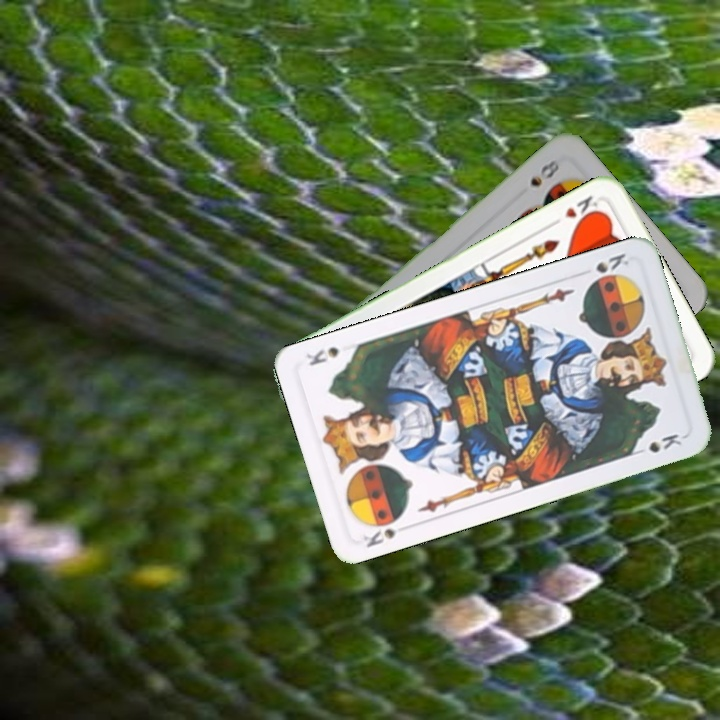HK: (547, 191, 606, 229)
S8: (525, 155, 562, 190)
SK: (586, 249, 632, 286), (359, 520, 413, 550)
